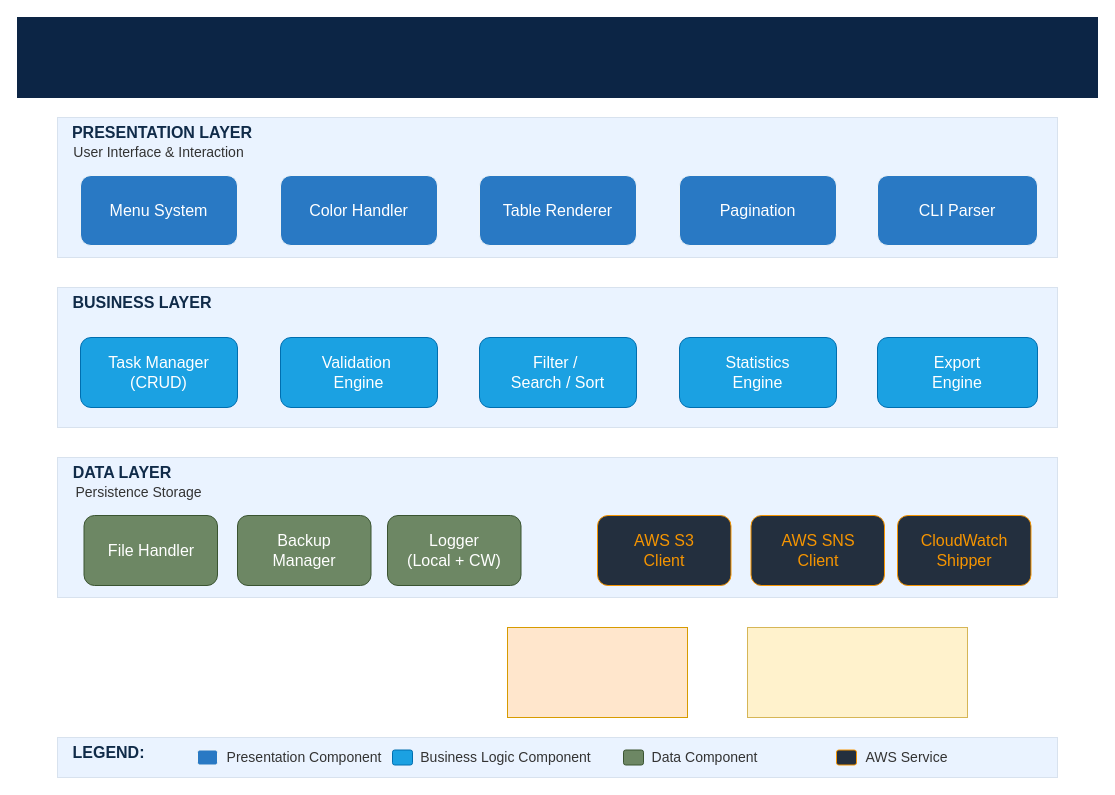
Image size: 1115x795. Some labels were removed from this diagram. The centre of each missing label's shape, as x and y in pixels:
".env - AWS_REGION - S3_BUCKET - SNS_TOPIC_ARN - CW_LOG_GROUP" belongs at pixel 597 672.
"AWS Credentials - aws_access_key_id - aws_secret_access_key" belongs at pixel 857 672.
"CloudTask - System Architecture" belongs at pixel 557 57.
